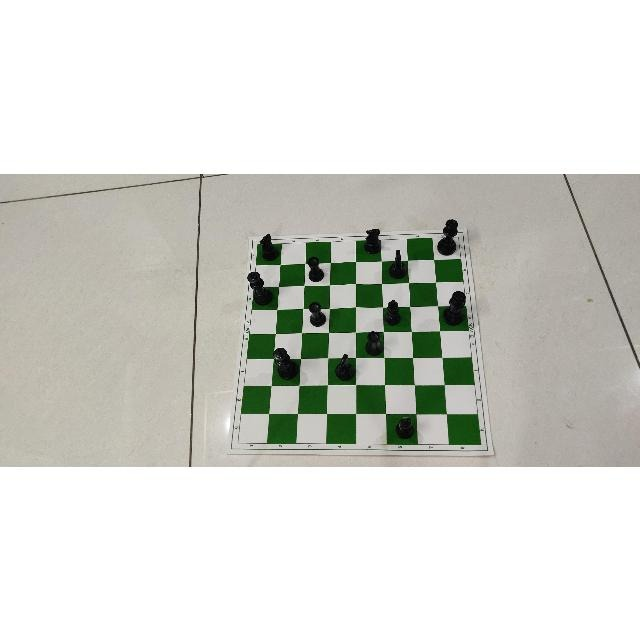black-bishop: (383, 298, 401, 326), (393, 415, 414, 439)
black-king: (246, 271, 273, 305), (272, 346, 298, 380)
black-knight: (258, 231, 279, 261), (388, 247, 407, 278), (335, 353, 355, 381), (363, 226, 382, 253)
black-queen: (441, 288, 466, 325), (437, 217, 459, 255)
black-rook: (364, 329, 383, 356), (307, 254, 325, 281), (308, 300, 326, 325)
